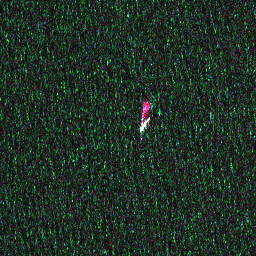ship: (137, 114, 151, 133)
